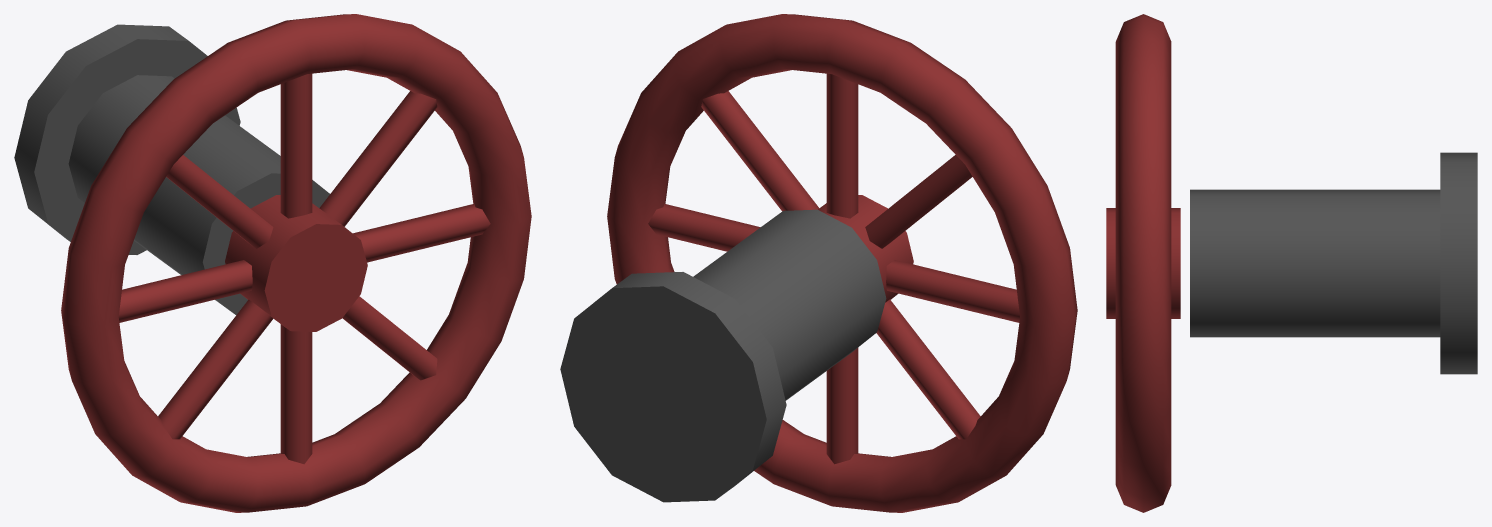
Rendered from valve.glb.
3 views of the same model, side by side, from view 1: azimuth 30°, elevation 25°; view 2: azimuth 150°, elevation 25°; view 3: azimuth 270°, elevation 25° (orthographic). The views are drawn at different scales.
Visible parts, largest first — view 1: valve_wheel, object 7, object 8, object 6, object 5, object 2, object 4, object 3; view 2: valve_wheel, object 8, object 7, object 5, object 2, object 4, object 3, object 6; view 3: object 7, valve_wheel, object 8, object 6.
Boxes of the visible parts, bbox=[...] form: valve_wheel: bbox=[61, 14, 531, 512]; object 7: bbox=[68, 75, 329, 314]; object 8: bbox=[14, 24, 240, 254]; object 6: bbox=[225, 195, 367, 331]; object 5: bbox=[158, 91, 437, 439]; object 2: bbox=[280, 73, 312, 464]; object 4: bbox=[118, 204, 490, 322]; object 3: bbox=[166, 155, 437, 380]; valve_wheel: bbox=[607, 14, 1077, 512]; object 8: bbox=[560, 272, 786, 502]; object 7: bbox=[693, 209, 886, 400]; object 5: bbox=[701, 91, 980, 439]; object 2: bbox=[826, 73, 858, 464]; object 4: bbox=[648, 203, 1019, 322]; object 3: bbox=[865, 154, 972, 248]; object 6: bbox=[818, 195, 913, 302]; object 7: bbox=[1190, 189, 1440, 337]; valve_wheel: bbox=[1115, 14, 1171, 512]; object 8: bbox=[1440, 152, 1477, 374]; object 6: bbox=[1106, 208, 1180, 318].
Size of the model in its own units: 0.27 by 0.27 by 0.2.
